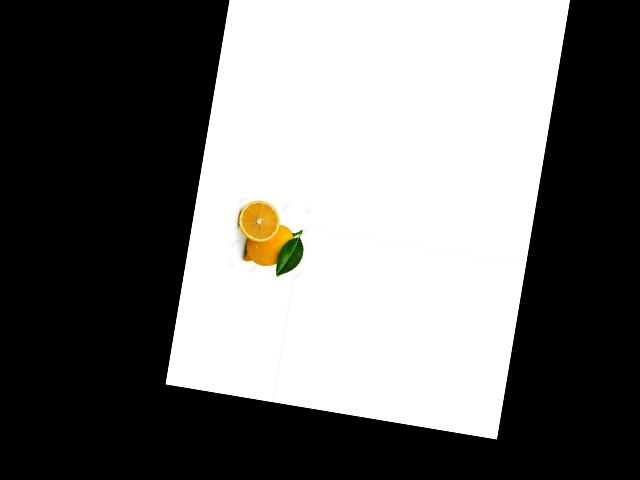lemon: (240, 216, 303, 273)
